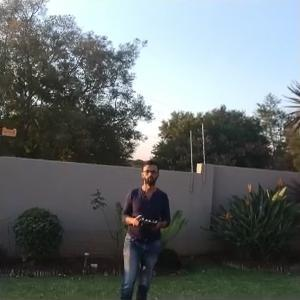follow: (116, 149, 172, 299)
